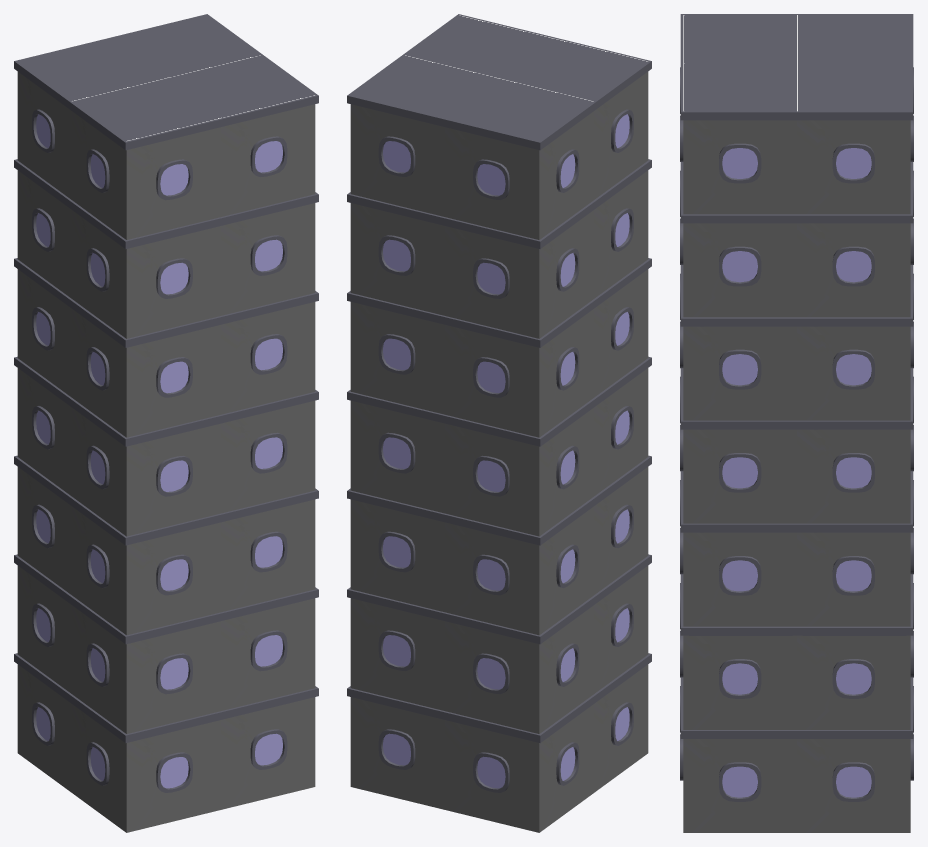
The model's file is obj_flat_2x2_round.FBX.
3 renders of one model, left to right at view 1: azimuth 30°, elevation 25°; view 2: azimuth 150°, elevation 25°; view 3: azimuth 270°, elevation 25°, orthographic. The views are drawn at different scales.
Visible parts, largest first — view 1: obj_flat_2x2_round; view 2: obj_flat_2x2_round; view 3: obj_flat_2x2_round.
Boxes of the visible parts, left/top/right/bottom form: obj_flat_2x2_round: left=14, top=14, right=318, bottom=832; obj_flat_2x2_round: left=347, top=14, right=651, bottom=832; obj_flat_2x2_round: left=680, top=14, right=913, bottom=832.
Bounding box in the file's own units: 4.11 × 14 × 4.11.
Materials: 1 (1 with a texture image).
